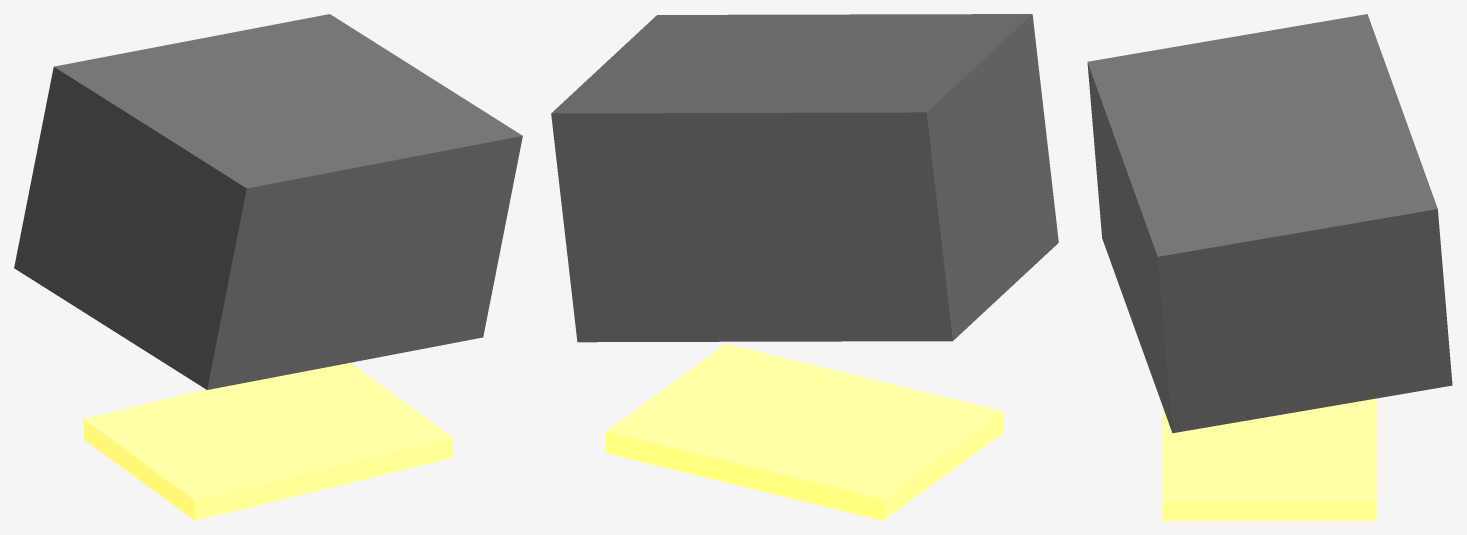
The model's file is floating_rock.glb.
The picture shows the model from 3 angles, left to right: view 1: azimuth 30°, elevation 25°; view 2: azimuth 150°, elevation 25°; view 3: azimuth 270°, elevation 25°; orthographic projection. The views are drawn at different scales.
Parts seen in each view (by area): view 1: Glow; view 2: Glow; view 3: Glow.
Boxes of the visible parts, x1,y1,x2,y2 form: Glow: (14, 14, 522, 520); Glow: (551, 14, 1058, 520); Glow: (1087, 14, 1452, 520).
Size of the model in its own units: 0.6074 by 0.5697 by 0.51.
